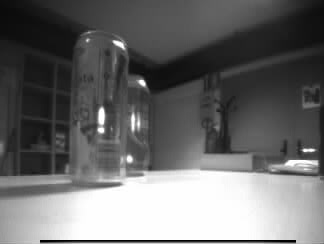Tin can: (68, 30, 128, 186), (115, 74, 151, 174)
